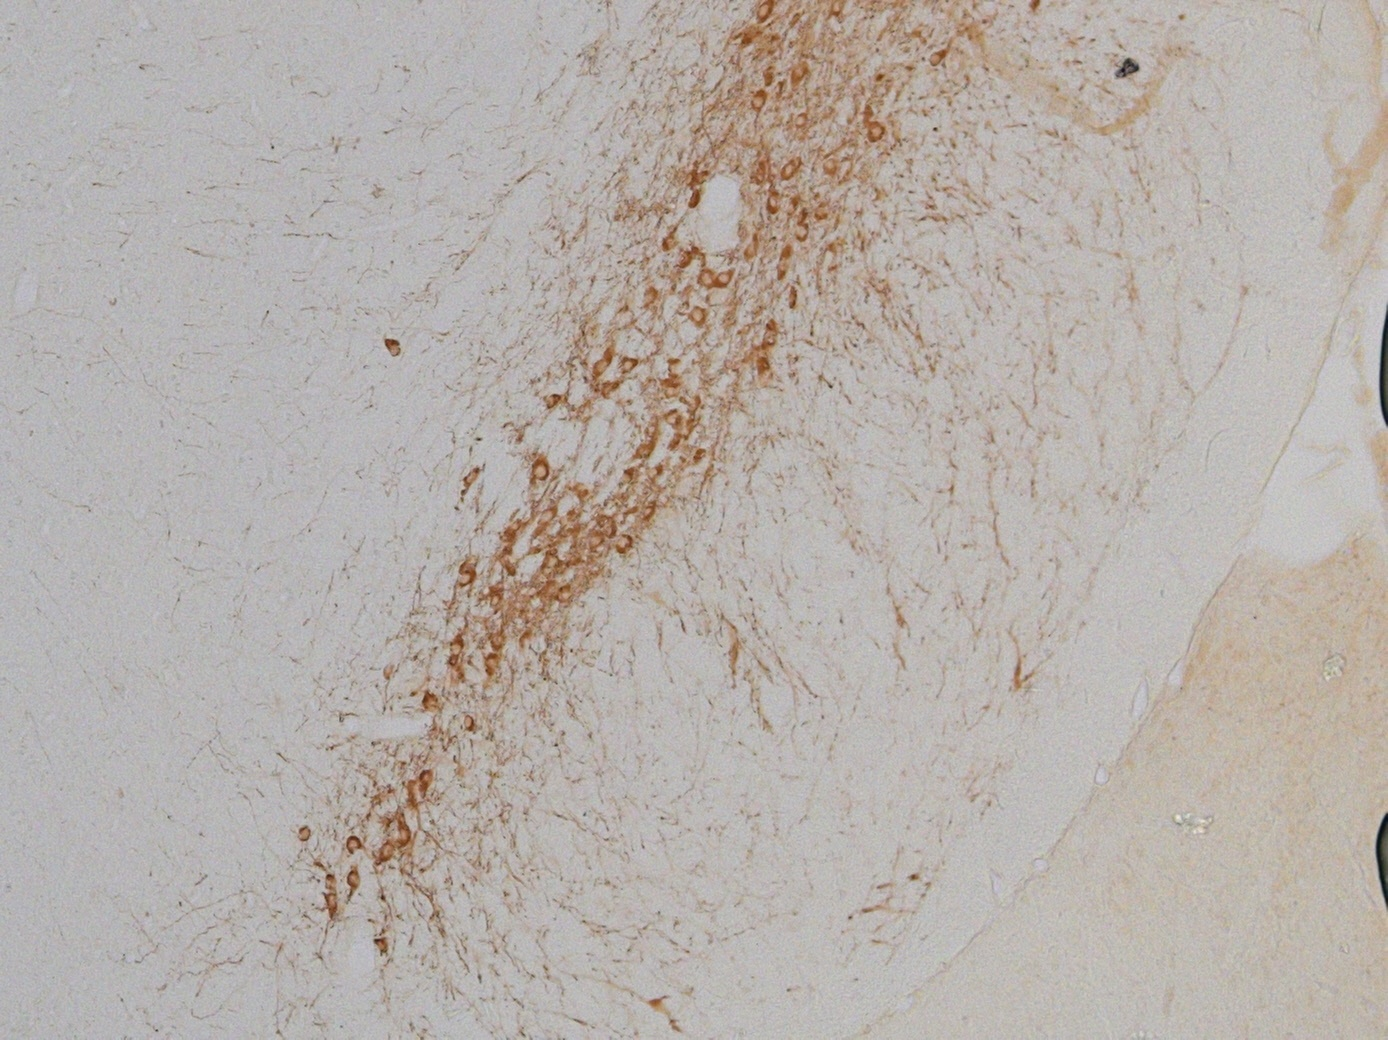neuron: (455, 459, 491, 495), (293, 823, 317, 847), (320, 868, 344, 893), (325, 891, 349, 915), (341, 868, 365, 893), (344, 835, 368, 859), (372, 933, 396, 957), (373, 843, 398, 867), (382, 338, 406, 362), (394, 824, 418, 848), (417, 765, 441, 789), (447, 637, 471, 661), (453, 567, 477, 591), (456, 709, 481, 733), (484, 650, 508, 674), (488, 627, 512, 651), (531, 460, 555, 484), (537, 508, 561, 532), (544, 551, 568, 575), (554, 584, 578, 608), (583, 531, 607, 555), (589, 356, 613, 380), (613, 532, 637, 556), (617, 466, 641, 491), (619, 353, 643, 377), (641, 289, 665, 314), (655, 232, 679, 256), (662, 407, 686, 432), (683, 190, 707, 214), (686, 304, 710, 328), (697, 269, 721, 293), (714, 268, 738, 292), (748, 90, 772, 114), (749, 0, 773, 24), (759, 324, 783, 348), (762, 193, 786, 217), (772, 253, 796, 277), (778, 159, 802, 184), (787, 63, 811, 87), (791, 108, 815, 132), (792, 223, 816, 247), (812, 202, 837, 226), (819, 154, 843, 178), (867, 123, 891, 147), (928, 48, 952, 72), (638, 503, 662, 525)
